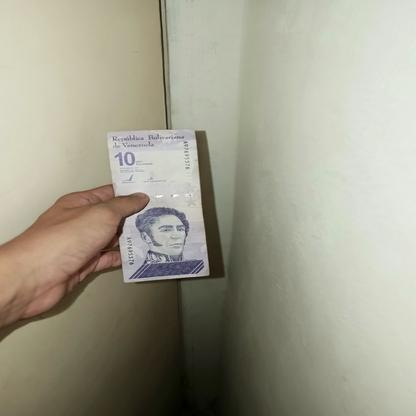ten-front-vef: (104, 130, 212, 282)
